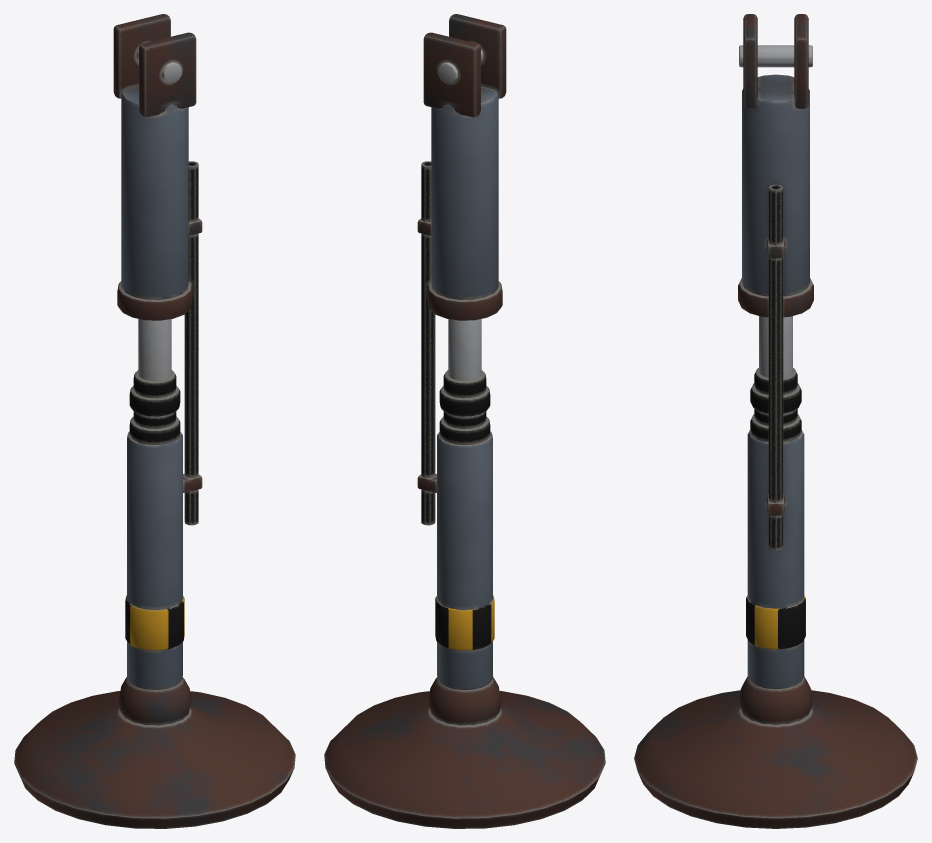
Rendered from kapsul_ayak.glb.
The picture shows the model from 3 angles, left to right: view 1: azimuth 30°, elevation 25°; view 2: azimuth 150°, elevation 25°; view 3: azimuth 270°, elevation 25°; orthographic projection.
Parts seen in each view (by area): view 1: leg; view 2: leg; view 3: leg.
Part boxes in pixels (x1,y1,x2,y2): leg: [14, 14, 295, 828]; leg: [324, 14, 605, 828]; leg: [634, 14, 917, 828].
Size of the model in its own units: 0.5 by 1.45 by 0.5.
1 material, 1 textured.
